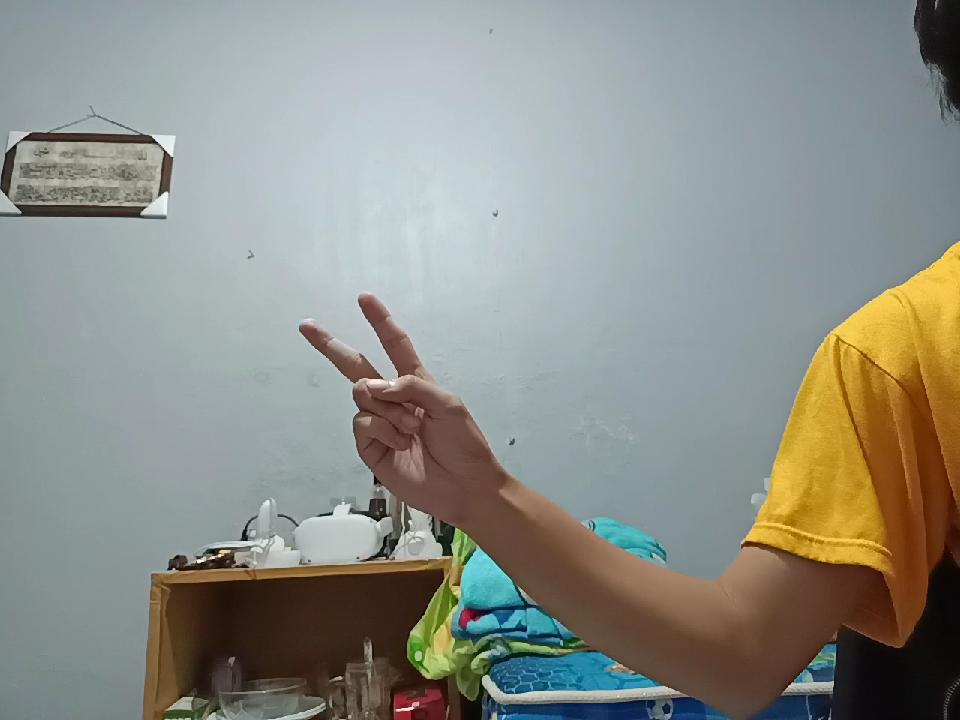scissors: (302, 274, 476, 508)
